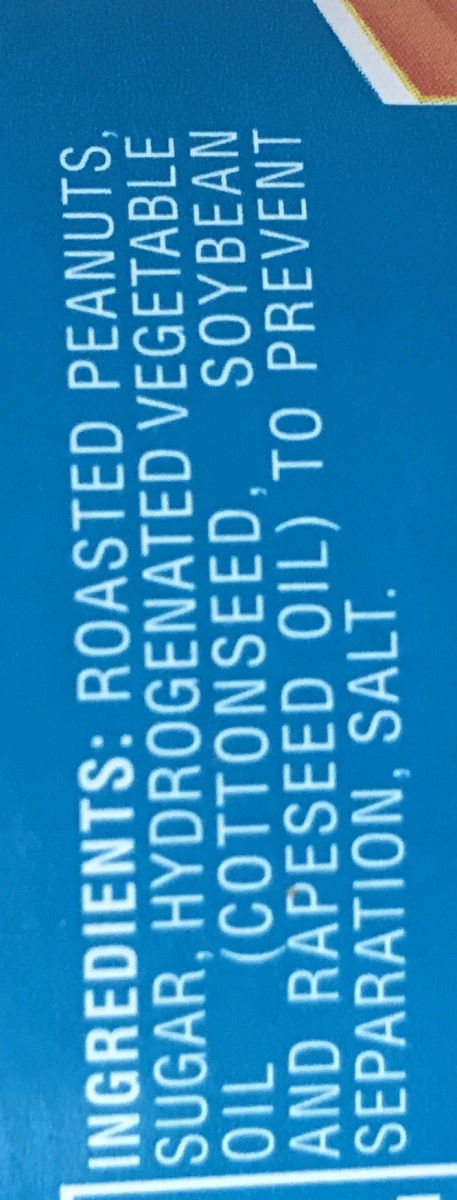ingredients: (36, 104, 425, 1178)
